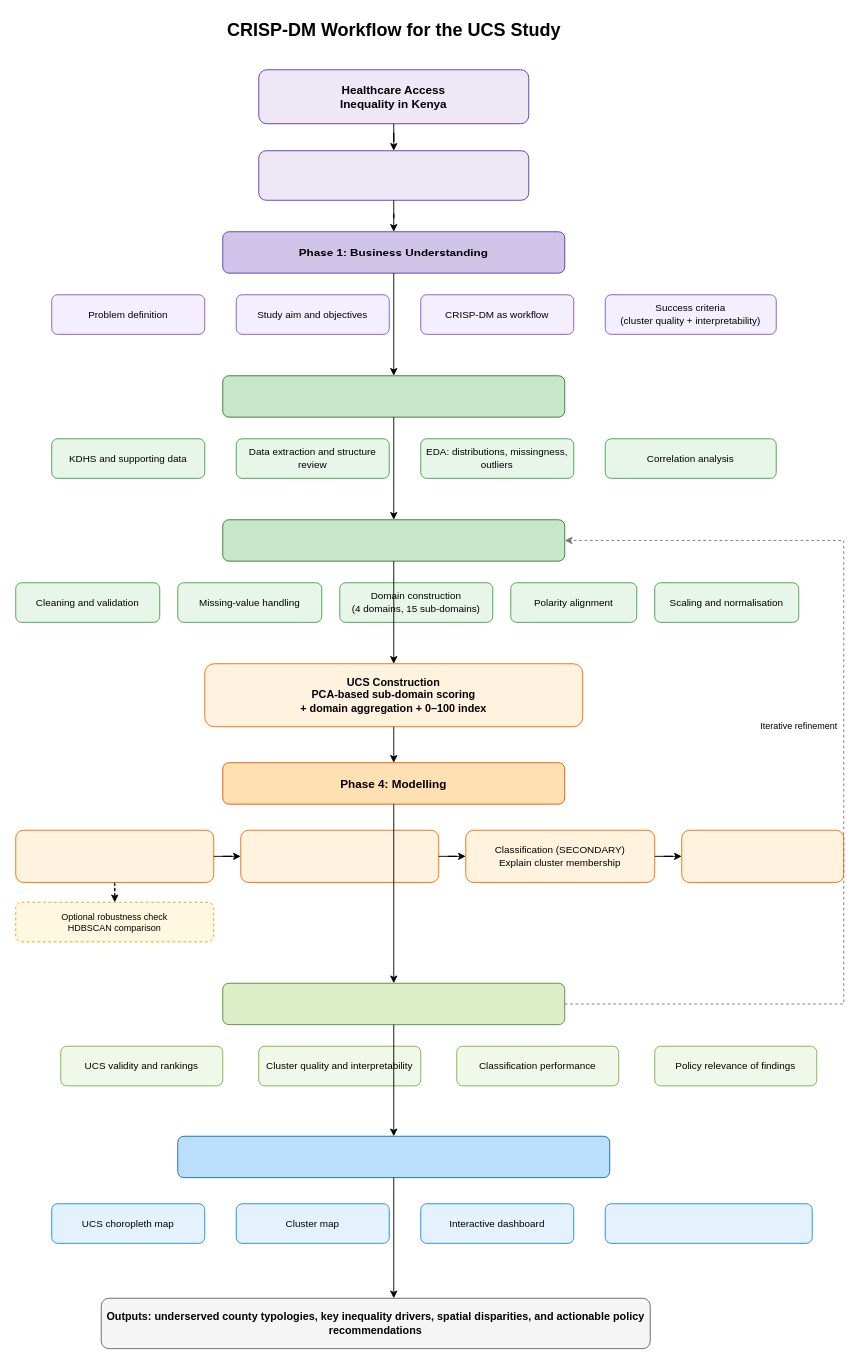
The diagram is 867 pixels wide and 1364 high, and some of its shapes have lost their labels. Here are the shapes that lost their labels. From the top down, the box of each, then its label:
(258, 150, 529, 200): Research Objectives (4 aligned objectives)
(222, 375, 565, 417): Phase 2: Data Understanding
(222, 519, 565, 561): Phase 3: Data Preparation
(15, 829, 214, 882): Clustering (PRIMARY) K-Means typology identification
(240, 829, 439, 882): Cluster Evaluation Silhouette, Davies-Bouldin, Calinski-Harabasz
(681, 829, 844, 882): SHAP Interpretation Drivers of healthcare inequality
(222, 982, 565, 1025): Phase 5: Evaluation
(177, 1135, 610, 1178): Phase 6: Deployment and Communication
(604, 1203, 812, 1243): Decision support for policy and planning
